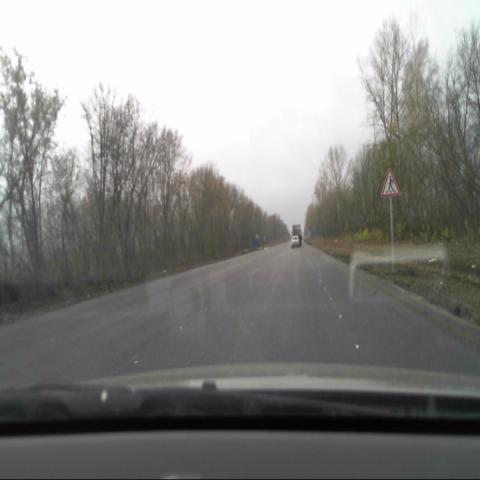1_22: (382, 167, 400, 196)
